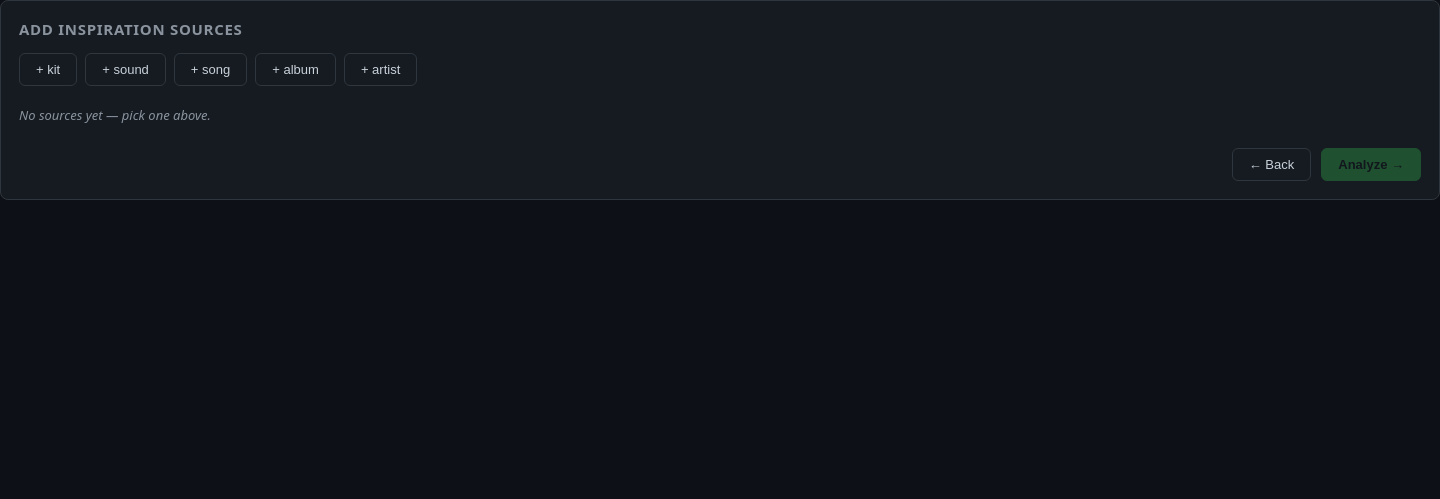
AddStep draft error feedback › confirming an empty draft sets aria-invalid + role=alert + focuses location
Click the button with test id "wizard-add-artist". click: (381, 70)
box: [344,53,417,86]
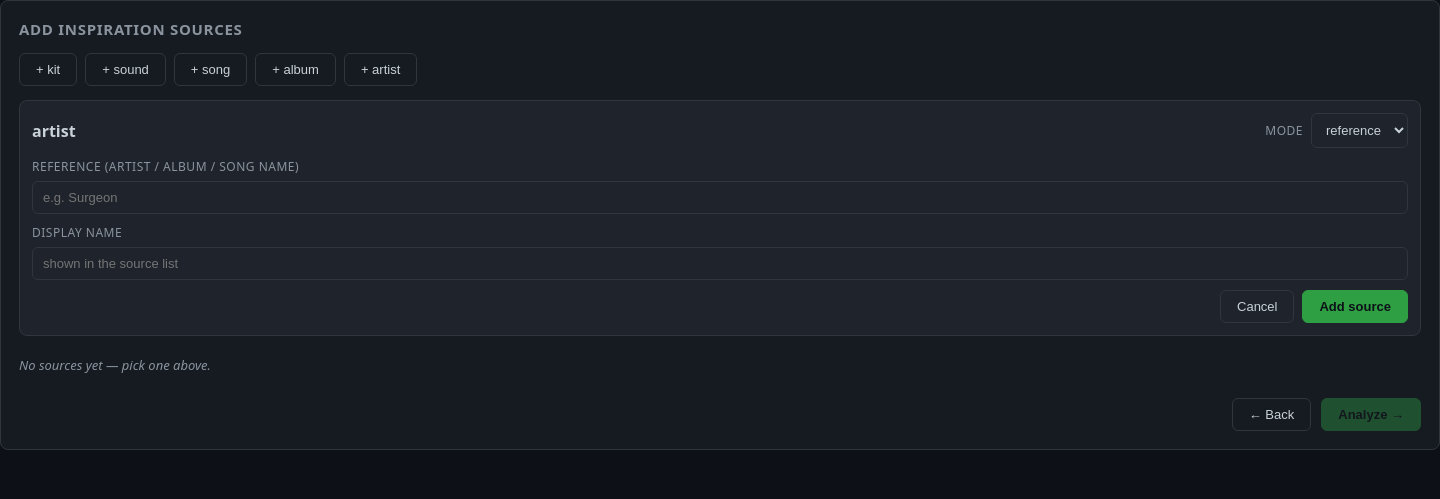
Click the button with test id "wizard-draft-confirm". click: (1355, 306)
box: [1302,290,1408,323]
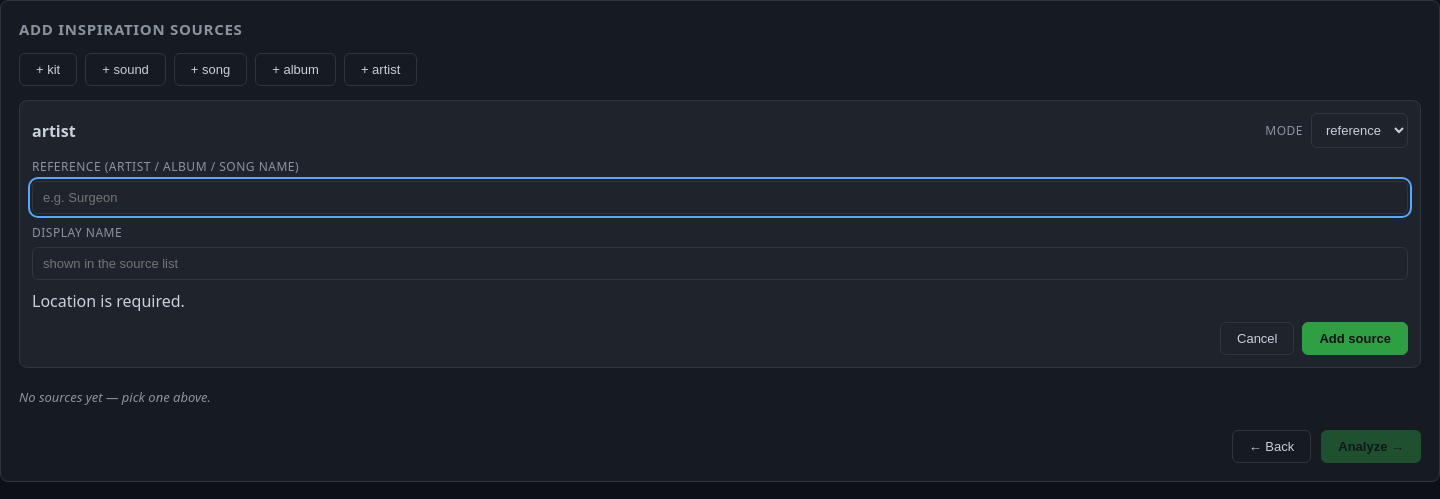
Check: the message shows "required", box [32,290,185,312]
